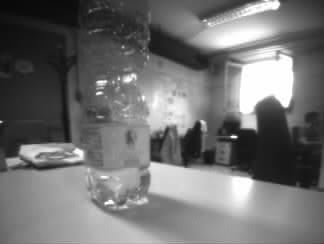Bottle: (84, 1, 152, 209)
